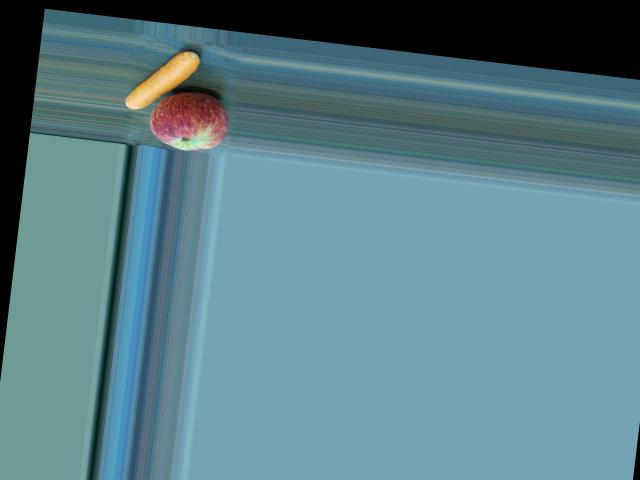carrot: (124, 41, 210, 121)
